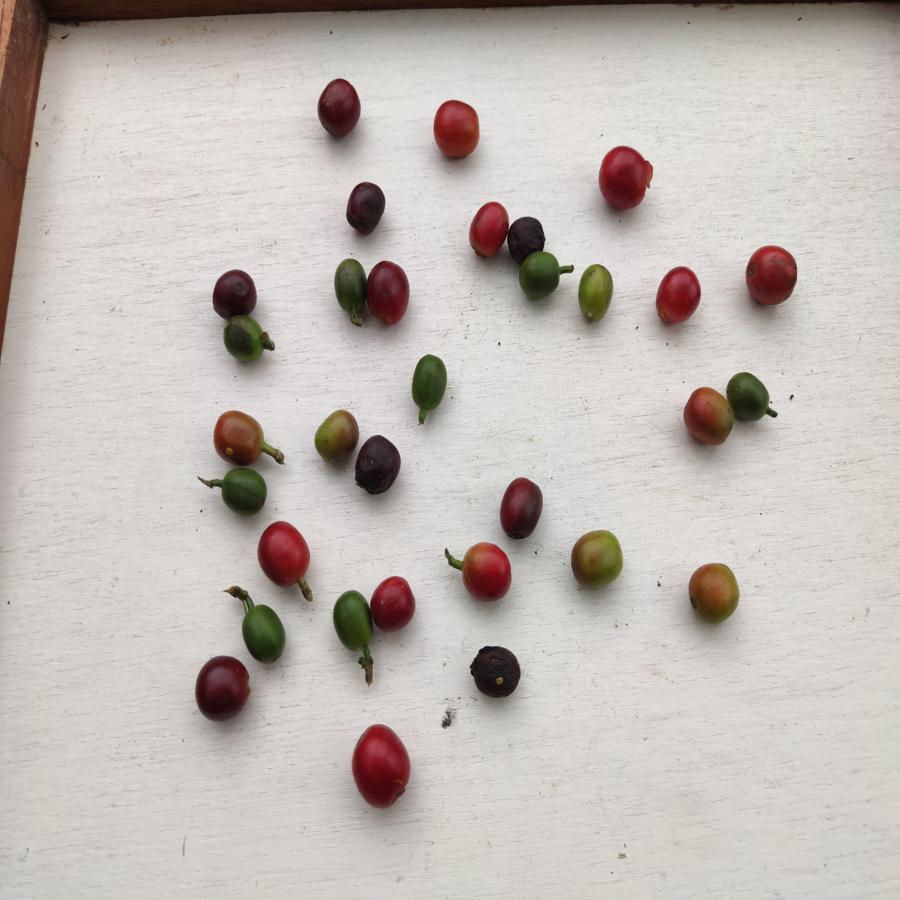Inmaduro: (238, 602, 289, 663), (332, 588, 374, 652), (222, 314, 270, 367), (218, 468, 271, 515), (728, 370, 775, 422), (407, 354, 451, 409), (332, 256, 368, 319), (518, 252, 564, 298)
Maduro: (348, 725, 416, 809), (745, 244, 802, 312), (258, 519, 312, 585), (455, 541, 514, 601), (598, 146, 652, 211), (433, 98, 481, 165), (656, 267, 702, 326), (372, 575, 419, 632), (467, 198, 508, 260)
Pinton: (686, 559, 744, 623), (685, 384, 735, 452), (570, 528, 625, 588), (213, 407, 264, 468), (314, 408, 358, 466), (579, 258, 615, 324)
Sobremaduro: (193, 655, 253, 725), (368, 258, 415, 326), (468, 642, 524, 699), (354, 434, 404, 496), (499, 473, 544, 541), (316, 76, 365, 138), (344, 180, 388, 236), (213, 267, 258, 313), (508, 215, 548, 252)
